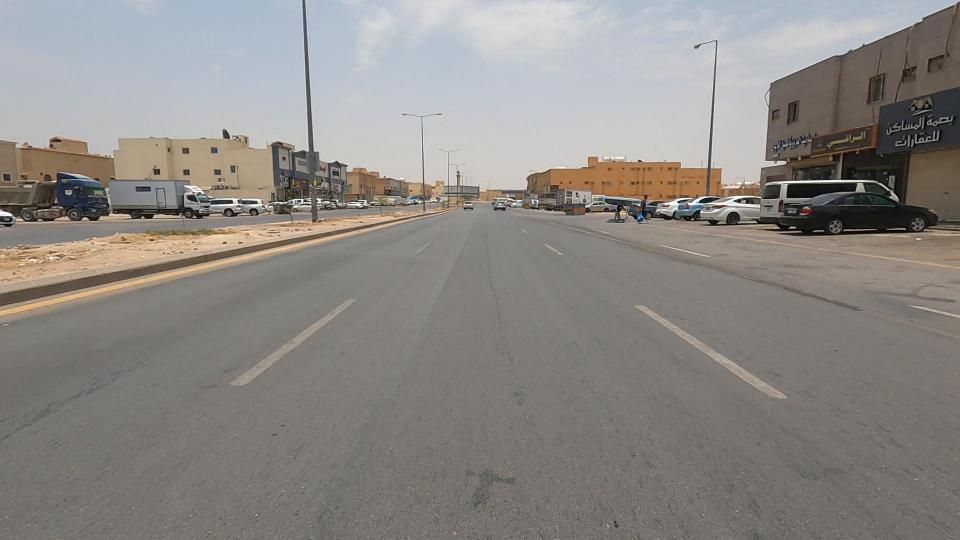CLUTTER_SIDEWALK: (7, 200, 187, 296), (130, 199, 339, 267), (306, 199, 413, 237)
